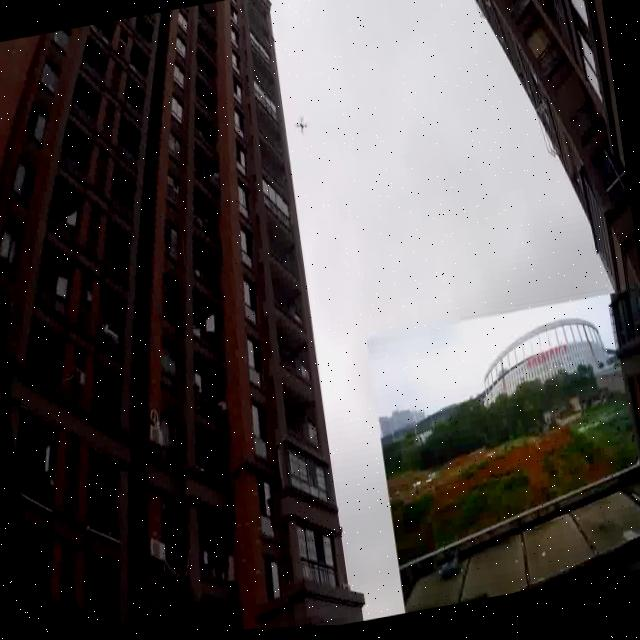drone: (276, 85, 340, 166)
